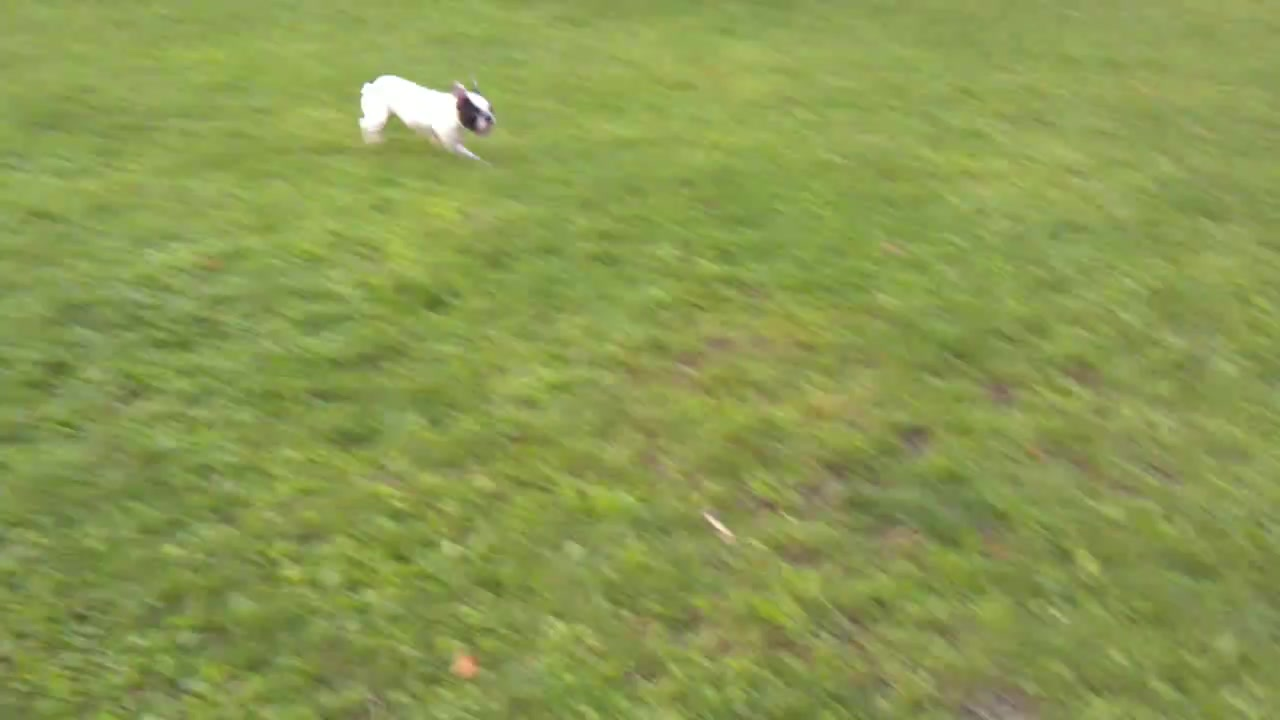dog: (355, 73, 500, 169)
